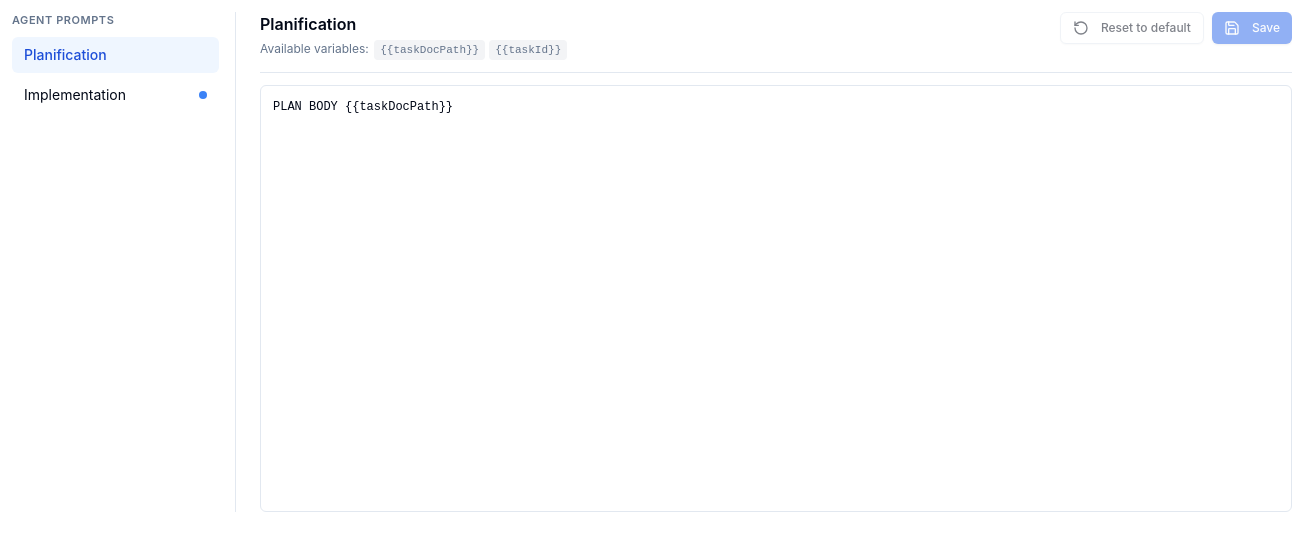
Test: AgentPromptsTab › shows a 409 conflict message when mtime mismatches
This screenshot has width=1304, height=560.
Replace the text in the text box with test id "prompt-editor" with "NEW" at (776, 298), box [260,85,1292,512]
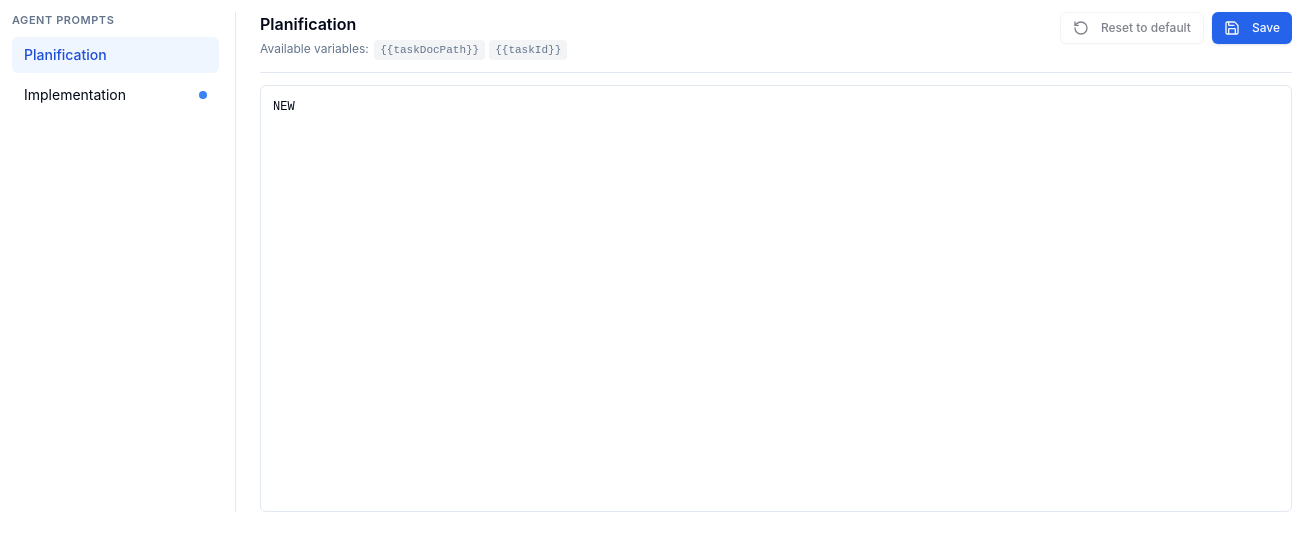
Click the button with test id "prompt-save-button" at (1252, 28), box [1212,12,1292,44]
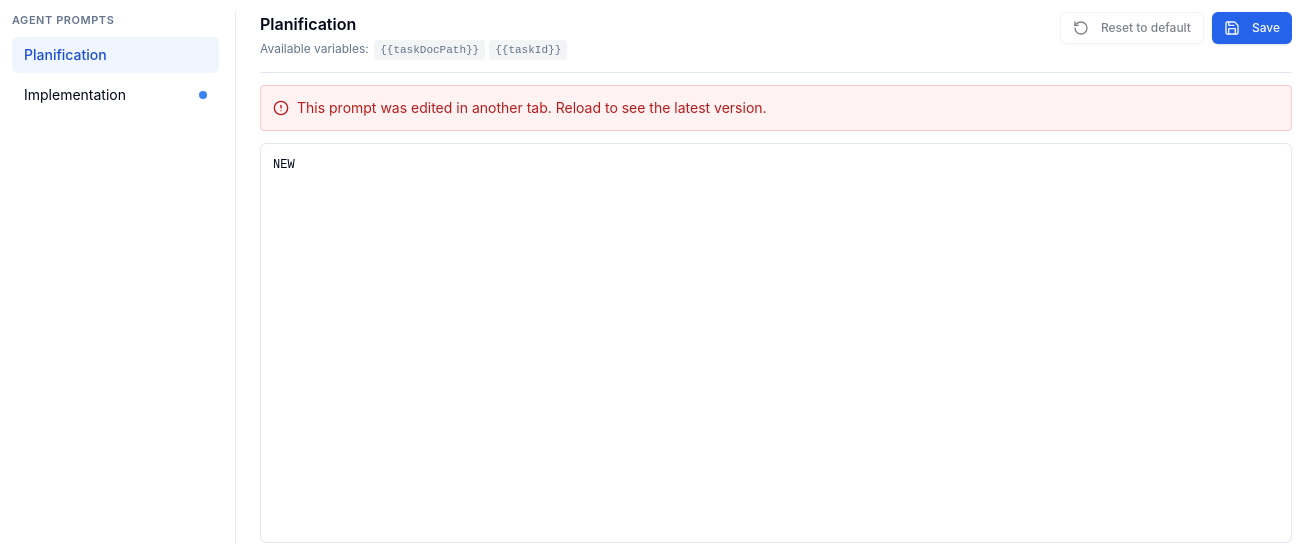
Now the text "edited in another tab" is shown, box [297,99,767,116]
